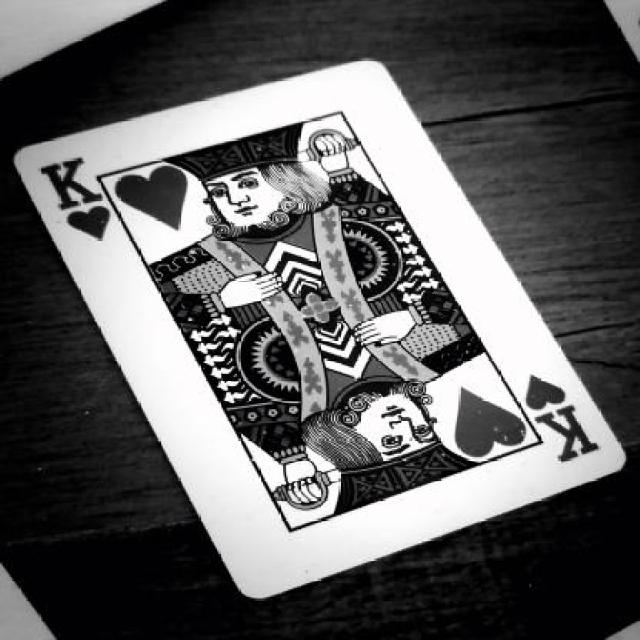KH: (504, 378, 625, 474), (31, 152, 126, 248)
